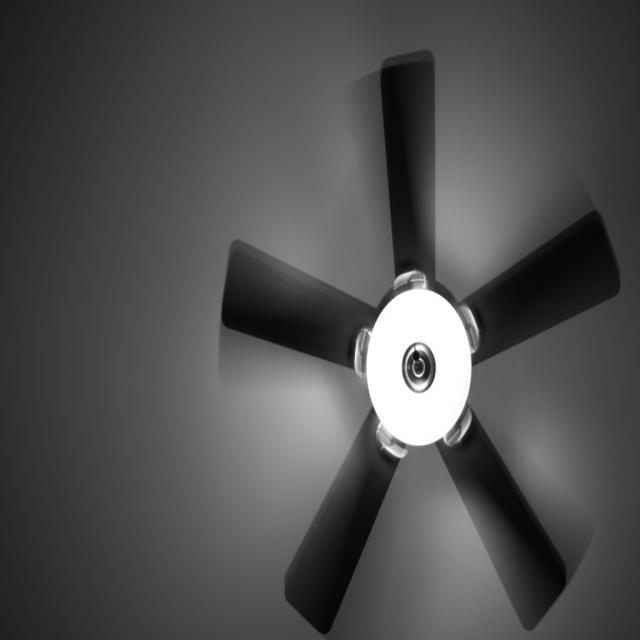fan_on: (221, 51, 615, 634)
